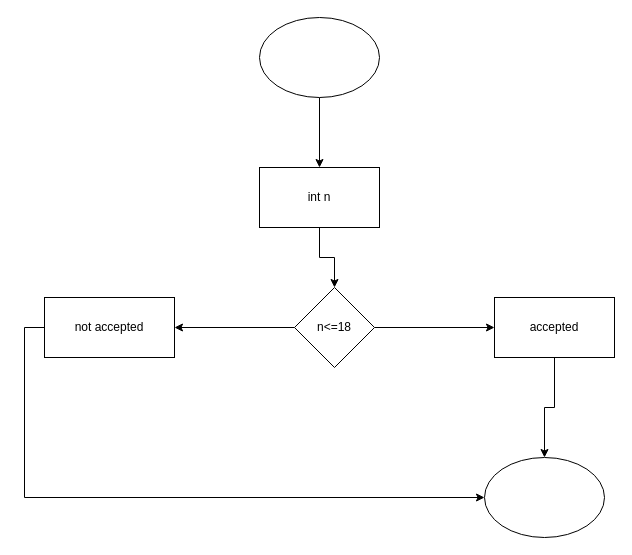
This 632x555 diagram has some shape labels left out. Each missing label, with the centre of its shape:
START: point 319,57
STOP: point 544,497
